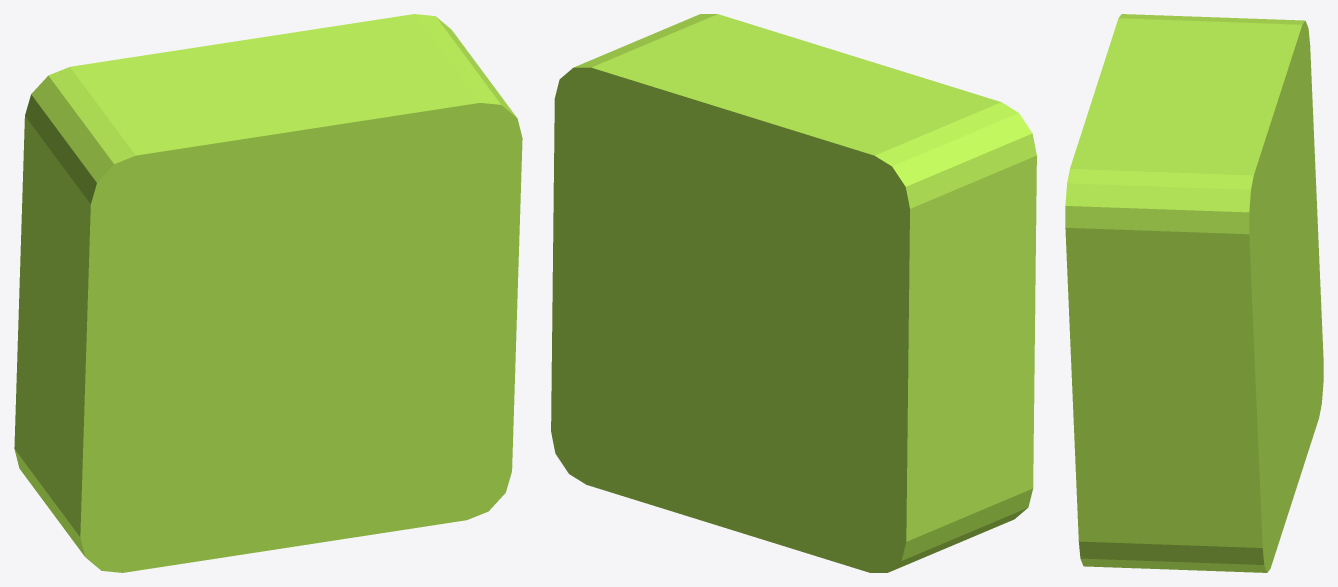
3 views of the same model, side by side, from view 1: azimuth 30°, elevation 25°; view 2: azimuth 150°, elevation 25°; view 3: azimuth 270°, elevation 25° (orthographic). The views are drawn at different scales.
Size of the model in its own units: 0.415 by 0.399 by 0.2284.
